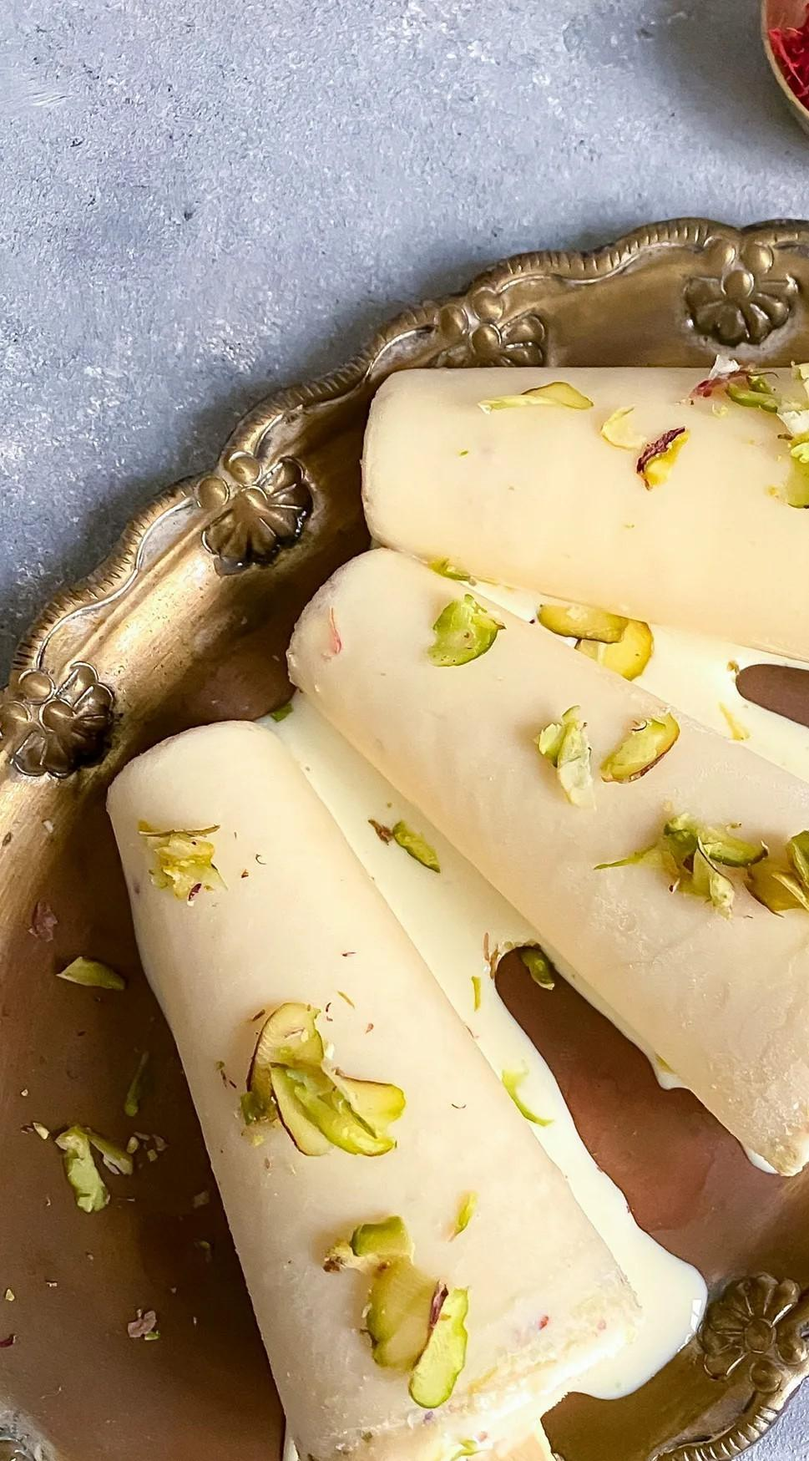Kulfi: (110, 722, 634, 1454), (288, 544, 809, 1182), (363, 360, 809, 643)
